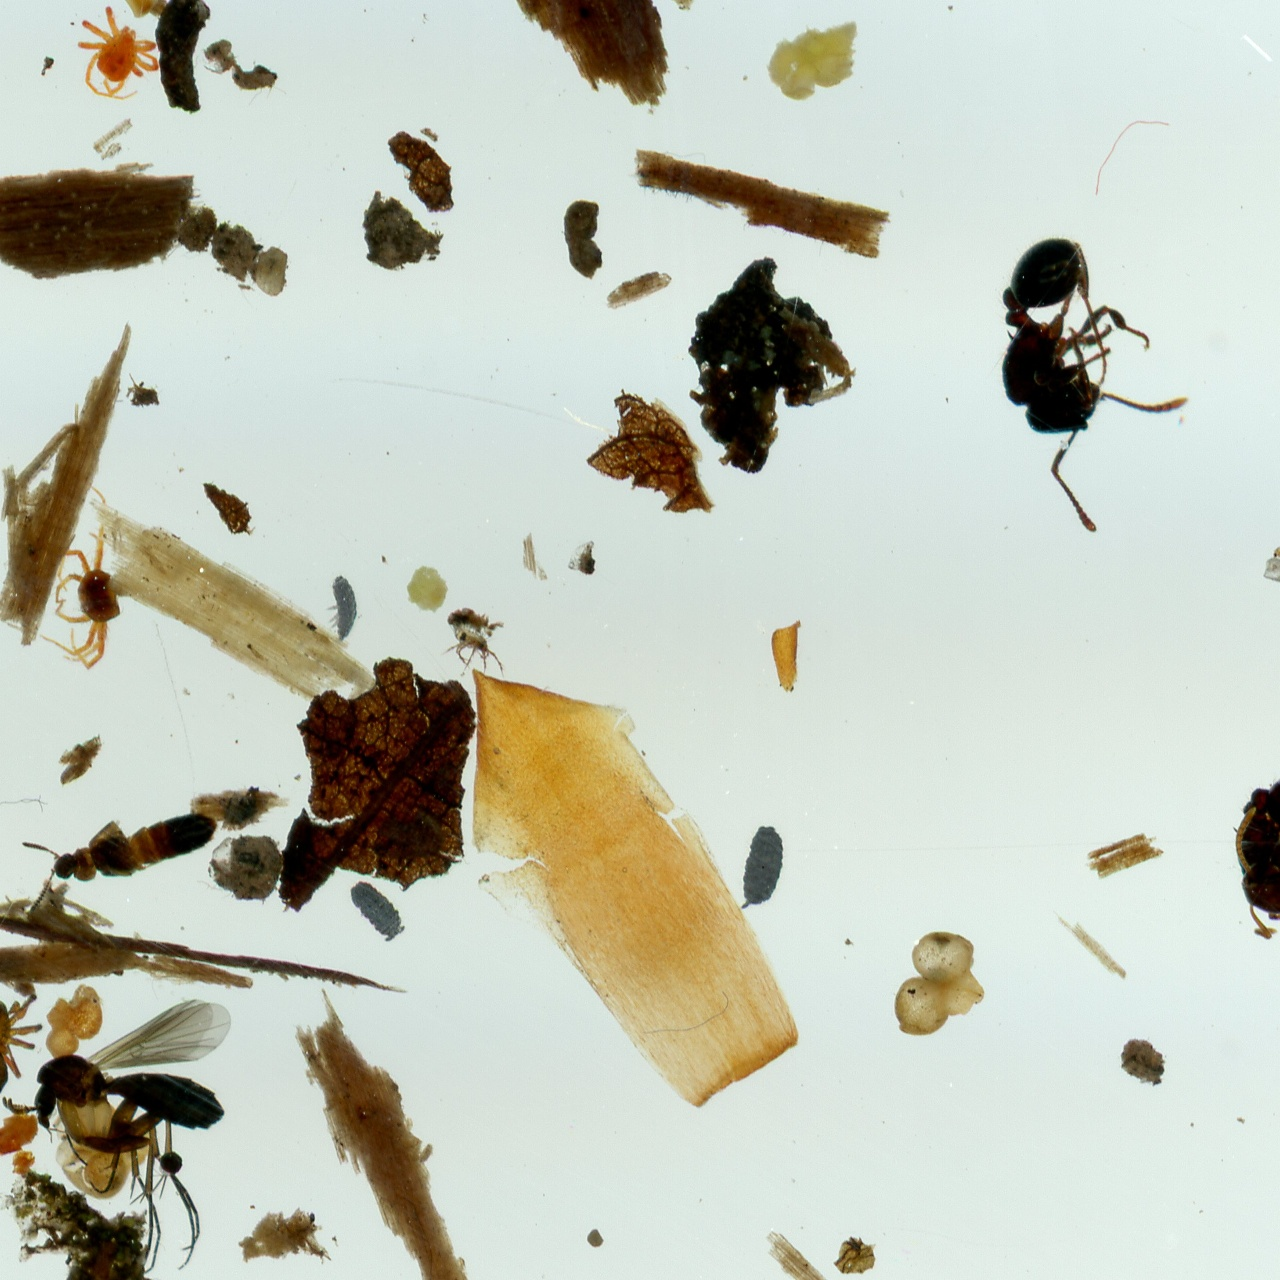arthropod: (0, 993, 240, 1274), (989, 233, 1197, 539), (8, 785, 228, 916), (6, 488, 126, 673), (50, 0, 181, 121), (1229, 734, 1280, 1036), (0, 966, 53, 1129), (734, 817, 794, 922), (341, 870, 413, 950), (438, 608, 507, 678), (324, 571, 360, 643)
